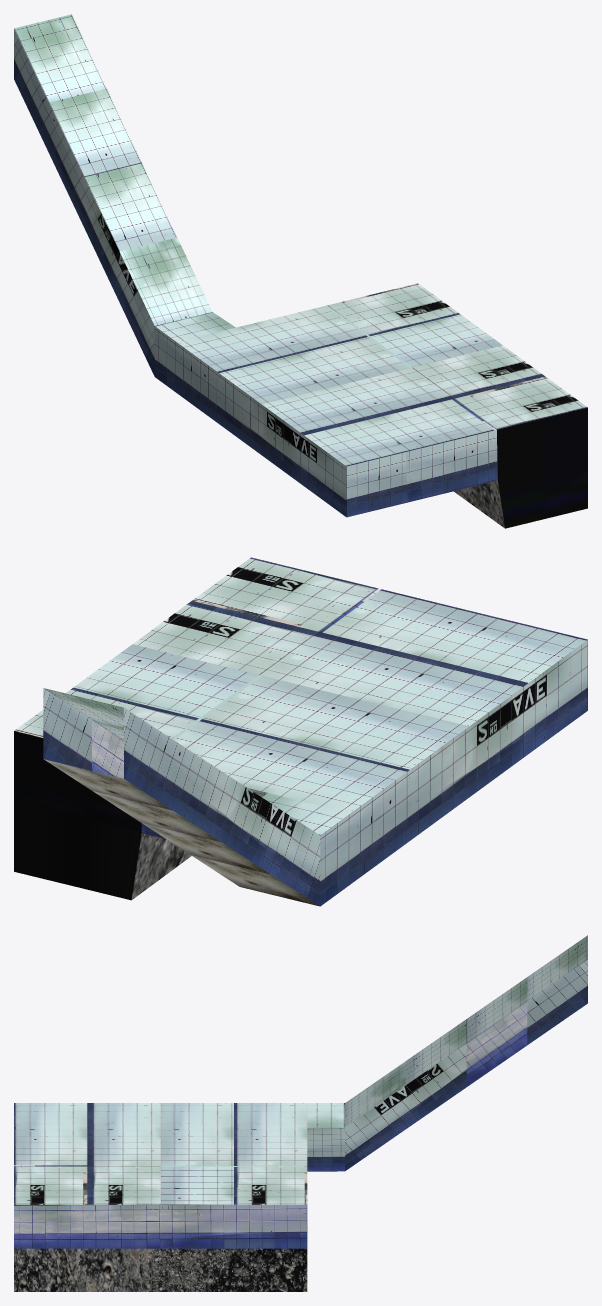
Rendered from metro endtilemetro.fbx.
3 views of the same model, one above another, from view 1: azimuth 30°, elevation 25°; view 2: azimuth 150°, elevation 25°; view 3: azimuth 270°, elevation 25° (orthographic). The views are drawn at different scales.
Parts seen in each view (by area): view 1: hallway T bone.002; view 2: hallway T bone.002; view 3: hallway T bone.002.
Boxes of the visible parts, x1,y1,x2,y2 form: hallway T bone.002: (14, 14, 587, 528); hallway T bone.002: (14, 557, 587, 906); hallway T bone.002: (14, 935, 587, 1291).
Size of the model in its own units: 9510 by 4662 by 3985.
Materials: 1 (1 with a texture image).
